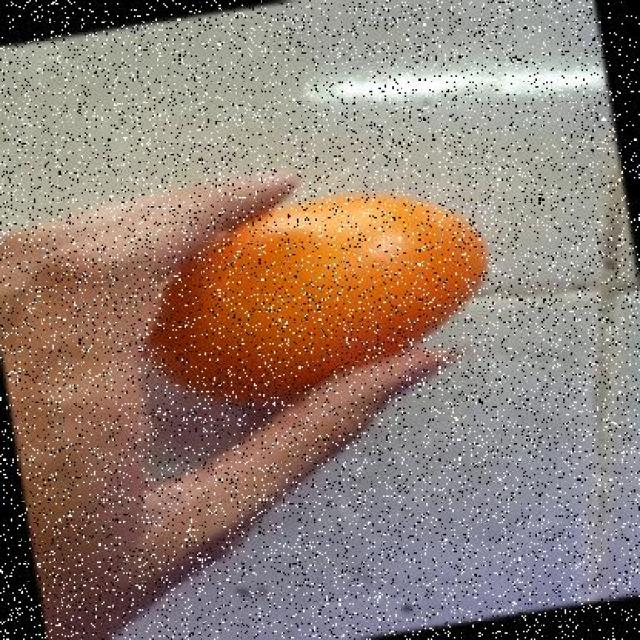Orange: (146, 188, 489, 404)
